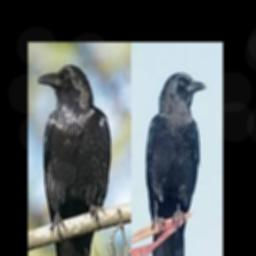Crow: (36, 64, 111, 256), (145, 71, 207, 256)
